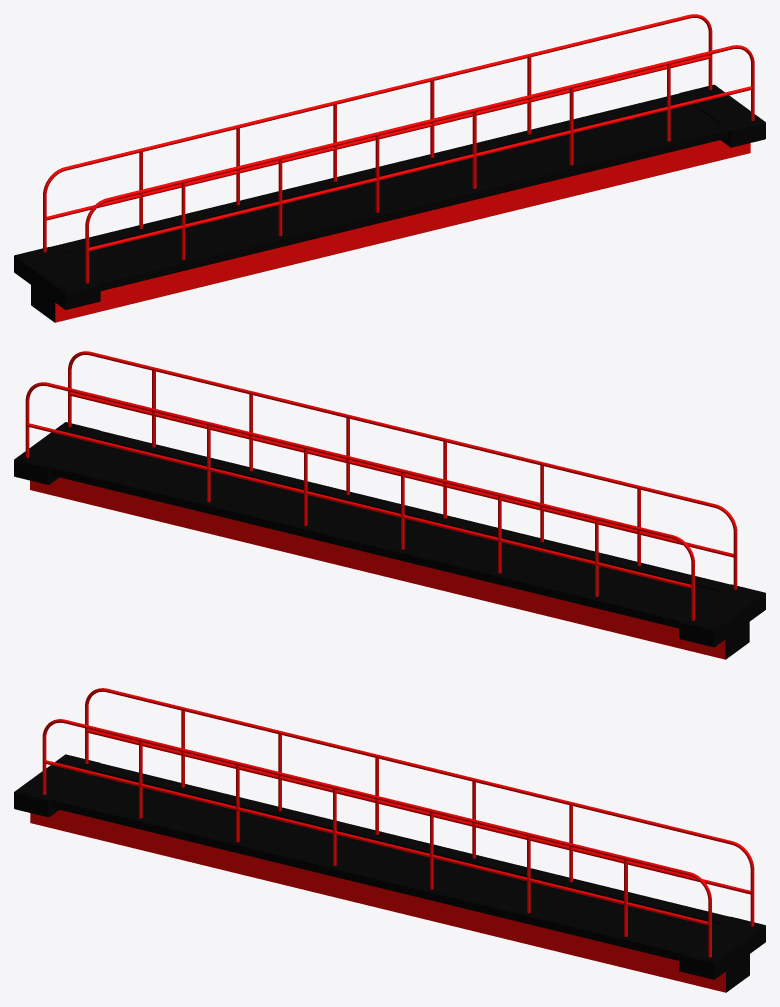
3 views of the same model, one above another, from view 1: azimuth 30°, elevation 25°; view 2: azimuth 150°, elevation 25°; view 3: azimuth 330°, elevation 25° (orthographic).
Visible parts, largest first — view 1: f_unit_12; view 2: f_unit_12; view 3: f_unit_12.
Boxes of the visible parts, x1,y1,x2,y2 form: f_unit_12: (14, 14, 765, 322); f_unit_12: (14, 351, 765, 659); f_unit_12: (14, 688, 765, 992).
Bounding box in the file's own units: 555 × 91.37 × 70.9.
